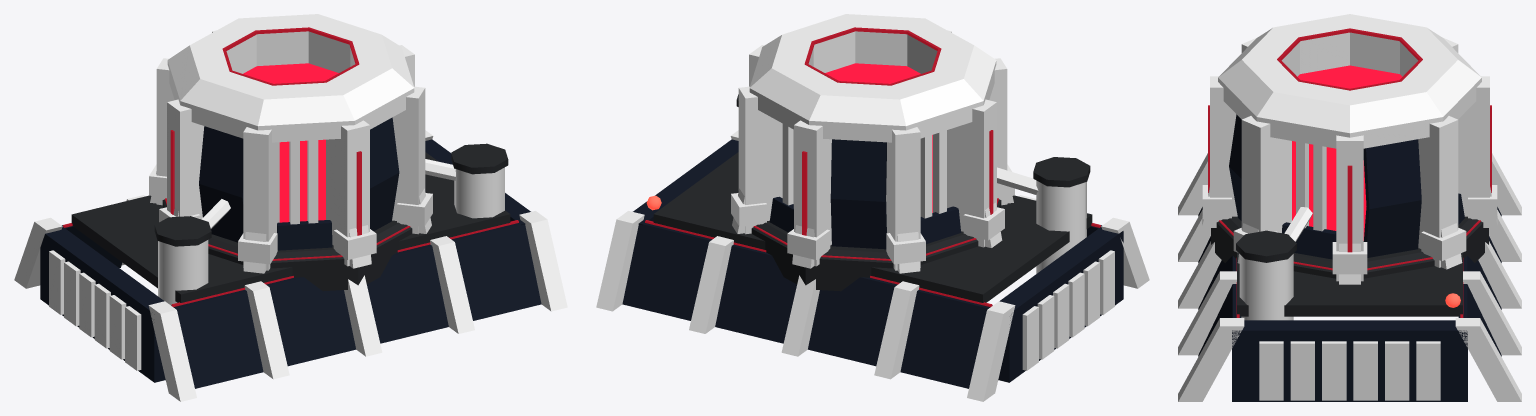
Rendered from core_industrial.gltf.
3 renders of one model, left to right at view 1: azimuth 30°, elevation 25°; view 2: azimuth 150°, elevation 25°; view 3: azimuth 270°, elevation 25°, orthographic. The views are drawn at different scales.
Visible parts, largest first — view 1: plate, gun, steel, graphite, detail_gun, core, detail_steel, seam; view 2: gun, plate, steel, graphite, detail_gun, detail_steel, seam, core; view 3: gun, steel, plate, graphite, detail_gun, detail_steel, core, seam.
Boxes of the visible parts, x1,y1,x2,y2 form: plate: (40,117,541,388); gun: (14,30,567,401); steel: (167,14,414,142); graphite: (71,143,510,302); detail_gun: (49,159,455,370); core: (243,63,338,222); detail_steel: (149,164,432,264); seam: (63,27,518,306); gun: (596,30,1149,401); plate: (622,139,1123,388); steel: (749,14,996,142); graphite: (653,94,1092,302); detail_gun: (997,167,1114,370); detail_steel: (731,164,1014,264); seam: (645,27,1100,306); core: (825,63,932,212); gun: (1178,38,1521,401); steel: (1218,14,1481,148); plate: (1198,114,1501,401); graphite: (1211,216,1488,316); detail_gun: (1259,207,1440,400); detail_steel: (1202,185,1497,274); core: (1292,65,1402,240); seam: (1208,28,1491,317).
Bounding box in the file's own units: 9.62 × 5.51 × 7.
